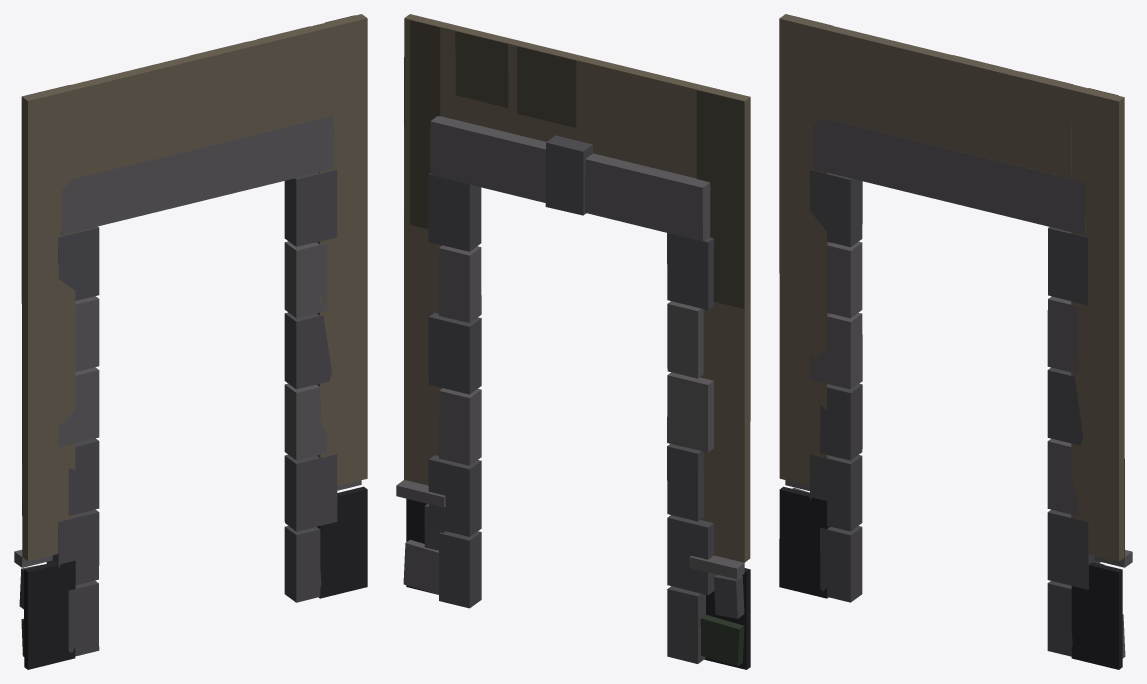
Rendered from SM_ENV_FachadaPorta.fbx.
3 renders of one model, left to right at view 1: azimuth 30°, elevation 25°; view 2: azimuth 150°, elevation 25°; view 3: azimuth 330°, elevation 25°, orthographic.
Parts seen in each view (by area): view 1: SM_ENV_FachadaPorta; view 2: SM_ENV_FachadaPorta; view 3: SM_ENV_FachadaPorta.
Part boxes in pixels (bbox=[...]): SM_ENV_FachadaPorta: bbox=[14, 14, 367, 669]; SM_ENV_FachadaPorta: bbox=[396, 14, 750, 669]; SM_ENV_FachadaPorta: bbox=[779, 14, 1132, 669].
Size of the model in its own units: 2 by 3.2 by 0.162.
